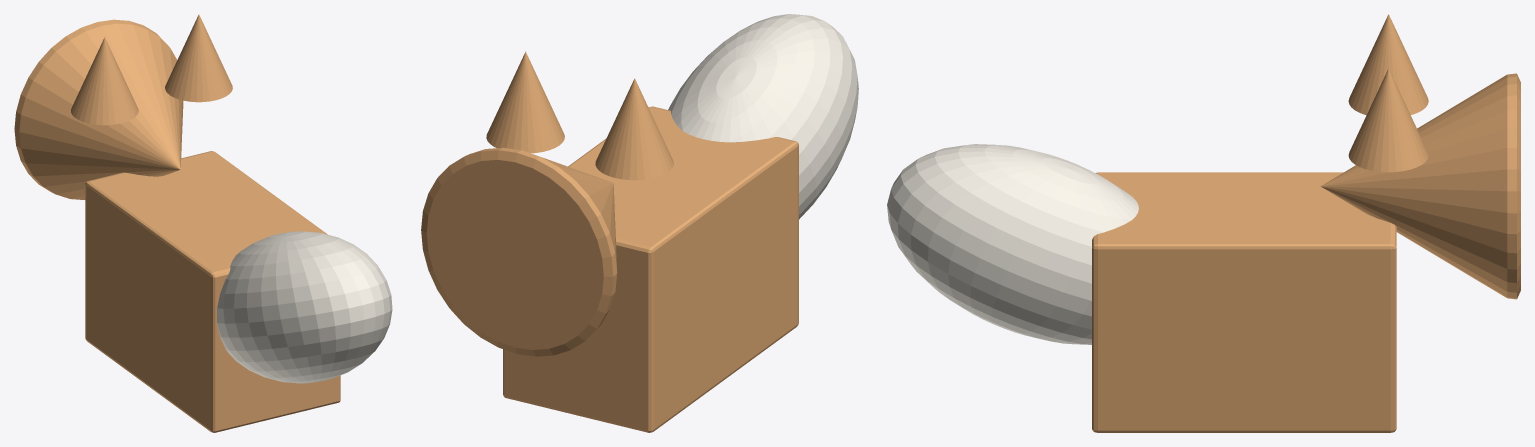
Rendered from carved_fox.glb.
3 views of the same model, side by side, from view 1: azimuth 30°, elevation 25°; view 2: azimuth 150°, elevation 25°; view 3: azimuth 270°, elevation 25° (orthographic). The views are drawn at different scales.
Parts seen in each view (by area): view 1: Cube, Sphere, Cone, Cone.002, Cone.001; view 2: Cube, Cone, Sphere, Cone.001, Cone.002; view 3: Cube, Sphere, Cone, Cone.002, Cone.001.
Boxes of the visible parts, bbox=[...] form: Cube: bbox=[85, 151, 340, 432]; Sphere: bbox=[217, 231, 392, 383]; Cone: bbox=[14, 19, 183, 199]; Cone.002: bbox=[165, 14, 232, 102]; Cone.001: bbox=[71, 37, 138, 125]; Cube: bbox=[503, 106, 798, 432]; Cone: bbox=[421, 147, 617, 356]; Sphere: bbox=[668, 14, 858, 219]; Cone.001: bbox=[595, 78, 673, 180]; Cone.002: bbox=[486, 51, 564, 153]; Cube: bbox=[1092, 172, 1396, 432]; Sphere: bbox=[887, 144, 1138, 344]; Cone: bbox=[1321, 73, 1520, 299]; Cone.002: bbox=[1348, 68, 1428, 172]; Cone.001: bbox=[1348, 14, 1428, 115].
Bounding box in the file's own units: 0.2822 × 0.49 × 0.7906.
